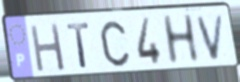4: (135, 16, 164, 67)
C: (99, 19, 132, 69)
H: (160, 12, 202, 68), (28, 21, 67, 75)
T: (65, 20, 92, 70)
V: (195, 12, 227, 62)
